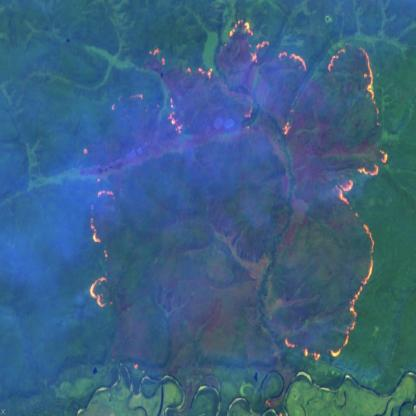fire: (80, 15, 390, 366)
